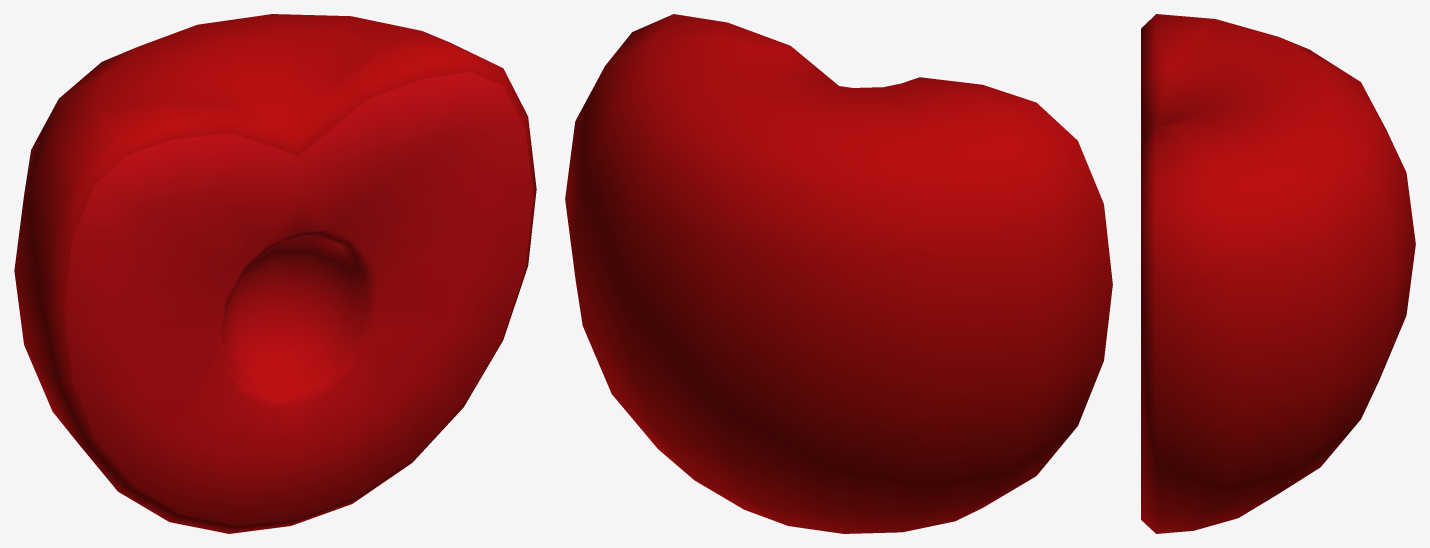
The model's file is Half_a_cherry_02.fbx.
The picture shows the model from 3 angles, left to right: view 1: azimuth 30°, elevation 25°; view 2: azimuth 150°, elevation 25°; view 3: azimuth 270°, elevation 25°; orthographic projection. The views are drawn at different scales.
Parts seen in each view (by area): view 1: Half_a_cherry_02; view 2: Half_a_cherry_02; view 3: Half_a_cherry_02.
Boxes of the visible parts, <box> form: Half_a_cherry_02: <box>14,14,536,533</box>; Half_a_cherry_02: <box>565,14,1112,533</box>; Half_a_cherry_02: <box>1141,14,1415,533</box>.
Size of the model in its own units: 52.12 by 44.3 by 26.35.
